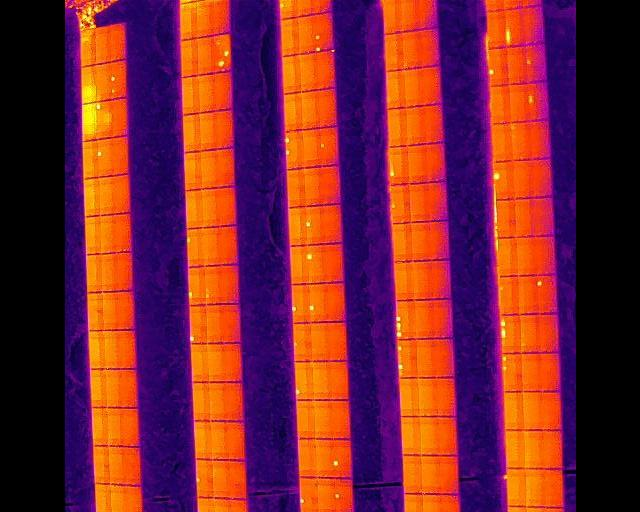Cell: (389, 183, 410, 223), (535, 276, 557, 314), (504, 468, 525, 507), (527, 83, 548, 121), (498, 276, 518, 315), (318, 127, 338, 166), (525, 45, 546, 82), (292, 322, 311, 362), (292, 362, 311, 401), (188, 305, 207, 344), (305, 207, 324, 246), (389, 146, 408, 184), (308, 283, 326, 323), (332, 438, 350, 478), (488, 48, 507, 85), (291, 284, 309, 323), (186, 229, 204, 268), (305, 245, 323, 284), (315, 51, 333, 90), (333, 478, 353, 512), (195, 459, 212, 498), (188, 267, 205, 306), (299, 478, 318, 512), (495, 161, 512, 199), (96, 138, 112, 178), (95, 100, 110, 139), (279, 0, 296, 19)
Cell-Multi: (501, 354, 521, 393), (397, 339, 417, 378), (500, 315, 520, 353), (284, 131, 303, 170), (396, 301, 415, 340), (312, 14, 331, 50), (214, 33, 231, 72), (302, 130, 319, 169), (205, 266, 222, 305), (110, 60, 126, 99), (521, 0, 540, 8)
No-Anomaly: (320, 165, 341, 206), (487, 86, 510, 123), (489, 123, 511, 161), (537, 312, 557, 353), (323, 244, 343, 285), (425, 142, 445, 183), (414, 300, 435, 339), (543, 469, 563, 509), (415, 339, 436, 377), (430, 221, 450, 260), (504, 430, 524, 469), (511, 121, 531, 160), (531, 160, 551, 199), (541, 392, 561, 431), (412, 261, 432, 300), (316, 88, 335, 129), (535, 236, 554, 276), (311, 361, 330, 401), (325, 283, 344, 323), (332, 400, 351, 440), (286, 169, 305, 208), (297, 439, 316, 478), (504, 392, 523, 431), (522, 392, 541, 431), (525, 469, 544, 508), (530, 121, 549, 160), (539, 353, 558, 392), (313, 400, 332, 439), (328, 322, 347, 361), (388, 107, 407, 146), (401, 416, 420, 455), (409, 183, 428, 222), (411, 222, 430, 261), (429, 181, 448, 220), (323, 204, 341, 245), (507, 46, 526, 84), (510, 84, 529, 122), (516, 238, 535, 276), (524, 7, 543, 45), (531, 199, 550, 237), (387, 70, 406, 108), (401, 379, 420, 417), (403, 455, 422, 493), (421, 417, 440, 455), (422, 455, 441, 493), (223, 304, 241, 344), (216, 109, 234, 149), (435, 299, 453, 339), (433, 260, 451, 300), (521, 353, 539, 393), (184, 151, 202, 191), (330, 361, 348, 401), (406, 106, 424, 146), (408, 144, 426, 184), (424, 104, 442, 144), (283, 93, 301, 132), (222, 265, 240, 304), (519, 314, 537, 353), (542, 431, 560, 470), (208, 343, 226, 382), (203, 227, 221, 266), (218, 187, 236, 226), (394, 261, 412, 300), (420, 28, 438, 67), (281, 56, 299, 94), (498, 238, 516, 276), (194, 421, 212, 459), (300, 91, 317, 131), (440, 417, 457, 457), (311, 323, 328, 363), (386, 32, 403, 72), (406, 68, 423, 108), (420, 377, 437, 417), (423, 65, 440, 105), (121, 408, 138, 448), (191, 344, 209, 381), (288, 207, 305, 246), (79, 28, 96, 67), (441, 456, 458, 495), (436, 339, 453, 378), (438, 377, 455, 416), (296, 400, 313, 439), (181, 38, 198, 77), (181, 0, 198, 39), (215, 72, 232, 111), (221, 226, 238, 265), (513, 160, 530, 199), (514, 199, 531, 238), (525, 430, 542, 469), (210, 382, 227, 421), (186, 189, 203, 228), (183, 113, 200, 152), (114, 214, 131, 253), (304, 166, 320, 207), (212, 421, 229, 459), (281, 17, 298, 55), (229, 460, 246, 498), (213, 460, 230, 498), (497, 200, 514, 238), (518, 276, 535, 314), (393, 223, 410, 261), (198, 36, 214, 76), (202, 150, 218, 190), (203, 187, 219, 227), (218, 148, 234, 188), (113, 175, 129, 215), (226, 343, 242, 382), (289, 246, 305, 285), (227, 382, 243, 421), (229, 421, 245, 460), (298, 53, 314, 92), (182, 76, 198, 115), (193, 382, 209, 421), (98, 177, 114, 216), (199, 111, 215, 150), (198, 74, 214, 113), (316, 439, 332, 478), (83, 178, 99, 217), (90, 369, 106, 408), (403, 30, 419, 69), (110, 98, 126, 137), (111, 137, 127, 176), (114, 253, 130, 292), (120, 369, 136, 408), (487, 11, 503, 49), (197, 0, 213, 38), (122, 448, 138, 486), (383, 0, 401, 33), (106, 369, 121, 408), (207, 305, 222, 344), (85, 216, 100, 255), (85, 254, 100, 293), (87, 293, 102, 332), (88, 330, 103, 369), (94, 446, 109, 485), (115, 291, 130, 330), (117, 330, 132, 369), (81, 65, 96, 103), (109, 24, 124, 62), (92, 408, 107, 446), (297, 15, 312, 52), (95, 63, 109, 102), (100, 253, 114, 292), (107, 408, 121, 447), (402, 0, 419, 32), (419, 0, 437, 30), (109, 447, 123, 485), (100, 215, 114, 253), (103, 331, 117, 369), (82, 140, 96, 178), (213, 0, 228, 35), (318, 478, 333, 512), (96, 26, 109, 64), (82, 102, 95, 140), (101, 292, 114, 330), (95, 484, 110, 512), (124, 485, 139, 512), (111, 484, 124, 512), (403, 493, 422, 512), (423, 494, 442, 512), (441, 495, 460, 512), (311, 0, 330, 14), (296, 0, 311, 17), (198, 497, 214, 512), (215, 498, 231, 512), (485, 0, 503, 12), (231, 498, 246, 512), (502, 0, 520, 10)
Unclassified: (504, 9, 524, 46)
